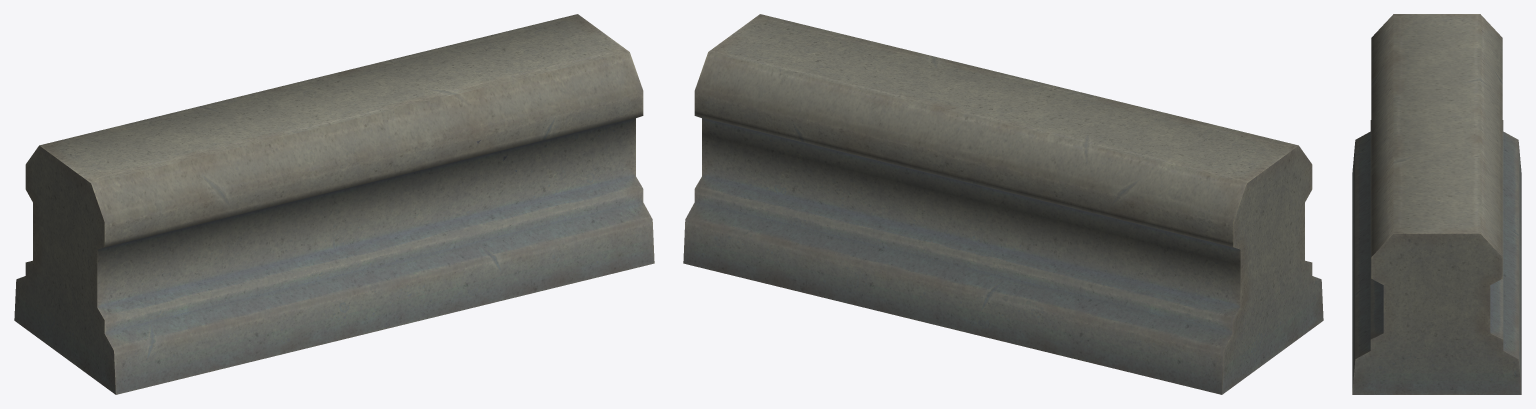
File: AD_Frame_B_01.fbx
The picture shows the model from 3 angles, left to right: view 1: azimuth 30°, elevation 25°; view 2: azimuth 150°, elevation 25°; view 3: azimuth 270°, elevation 25°; orthographic projection. The views are drawn at different scales.
Visible parts, largest first — view 1: AD_Frame_B_01; view 2: AD_Frame_B_01; view 3: AD_Frame_B_01.
Part boxes in pixels (box(x1,y1,x2,y2)): AD_Frame_B_01: box(14, 14, 654, 394); AD_Frame_B_01: box(683, 14, 1323, 394); AD_Frame_B_01: box(1352, 14, 1521, 394).
Bounding box in the file's own units: 400 × 137 × 131.
1 material, 1 textured.
